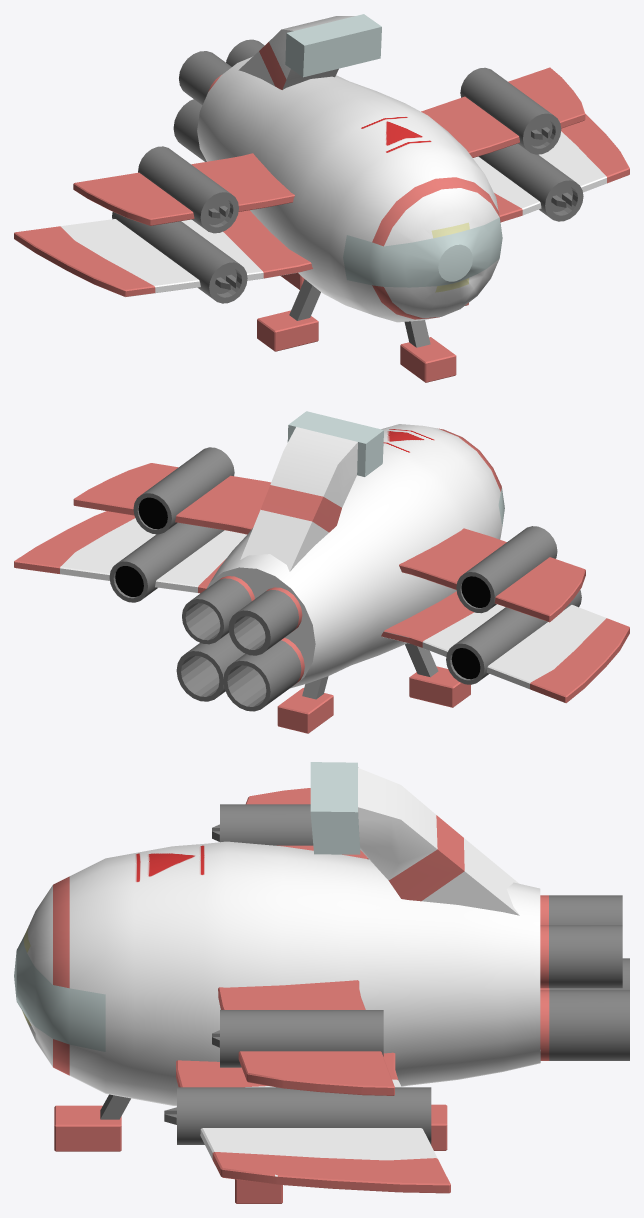
The model's file is SpaceShip_01.fbx.
3 views of the same model, one above another, from view 1: azimuth 30°, elevation 25°; view 2: azimuth 150°, elevation 25°; view 3: azimuth 270°, elevation 25° (orthographic). The views are drawn at different scales.
Visible parts, largest first — view 1: Main_body, Wings_onder, wings_boven, Cockpit, Wing_engine__complete_right_upper1, Wing_engine__complete_right_upper, Wing_engine__complete_left_upper, Wing_engine__complete_left_upper1, Voet_links1, Voet_voor, Engine_Rechts_boven, Engine_Rechts_onder (+3 smaller); view 2: Main_body, Wings_onder, wings_boven, Cockpit, Wing_engine__complete_left_upper, Wing_engine__complete_right_upper, Wing_engine__complete_left_upper1, Engine_Rechts_onder, Wing_engine__complete_right_upper1, Engine_Rechts_boven, Engine_Links_boven, Engine_Links_onder (+3 smaller); view 3: Main_body, Cockpit, Wings_onder, wings_boven, Wing_engine__complete_left_upper1, Wing_engine__complete_left_upper, Engine_Links_onder, Engine_Links_boven, Wing_engine__complete_right_upper, Voet_voor, Engine_Rechts_boven, Voet_links (+1 smaller).
Part boxes in pixels (box(x1,y1,x2,y2)): Main_body: box(197, 56, 502, 322); Wings_onder: box(14, 114, 629, 297); wings_boven: box(73, 67, 585, 225); Cockpit: box(238, 14, 381, 89); Wing_engine__complete_right_upper1: box(112, 212, 247, 303); Wing_engine__complete_right_upper: box(138, 146, 238, 233); Wing_engine__complete_left_upper: box(460, 67, 561, 154); Wing_engine__complete_left_upper1: box(478, 143, 583, 221); Voet_links1: box(257, 310, 318, 351); Voet_voor: box(400, 337, 456, 382); Engine_Rechts_boven: box(179, 51, 231, 105); Engine_Rechts_onder: box(173, 99, 206, 161); Main_body: box(207, 424, 504, 688); Wings_onder: box(14, 511, 629, 703); wings_boven: box(73, 463, 585, 622); Cockpit: box(240, 411, 383, 571); Wing_engine__complete_left_upper: box(133, 447, 234, 534); Wing_engine__complete_right_upper: box(456, 526, 557, 613); Wing_engine__complete_left_upper1: box(109, 522, 224, 602); Engine_Rechts_onder: box(223, 637, 304, 711); Wing_engine__complete_right_upper1: box(446, 590, 581, 684); Engine_Rechts_boven: box(228, 587, 302, 655); Engine_Links_boven: box(182, 576, 254, 644); Engine_Links_onder: box(176, 633, 244, 701); Main_body: box(14, 841, 540, 1106); Cockpit: box(310, 762, 519, 915); Wings_onder: box(176, 1052, 450, 1193); wings_boven: box(218, 788, 394, 1095); Wing_engine__complete_left_upper1: box(164, 1087, 431, 1144); Wing_engine__complete_left_upper: box(212, 1010, 383, 1067); Engine_Links_onder: box(540, 990, 629, 1060); Engine_Links_boven: box(540, 925, 622, 988); Wing_engine__complete_right_upper: box(212, 804, 313, 845); Voet_voor: box(54, 1105, 121, 1151); Engine_Rechts_boven: box(540, 895, 622, 924); Voet_links: box(235, 1179, 282, 1203).
Bounding box in the file's own units: 7.45 × 3.5 × 5.49.
7 materials, 1 textured.
